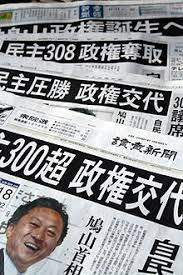Printing industry: (2, 1, 183, 275)
